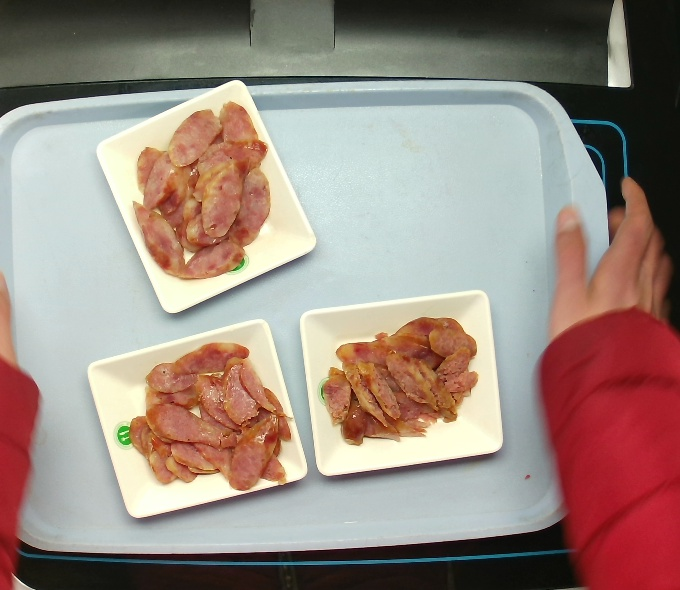wcq-QiePianXiangChang: (122, 343, 294, 492), (136, 97, 275, 277), (314, 311, 481, 453)
